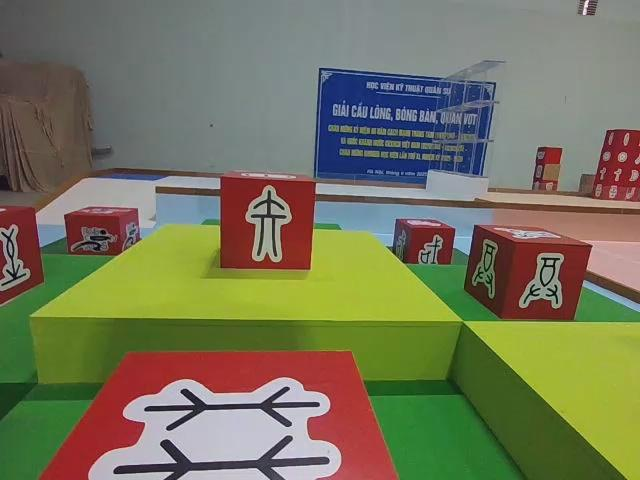R1: (63, 203, 141, 259)
R2 Fake: (218, 169, 318, 273)
R2 Real: (34, 346, 402, 480), (463, 221, 595, 323), (0, 201, 45, 309), (391, 215, 457, 268)
